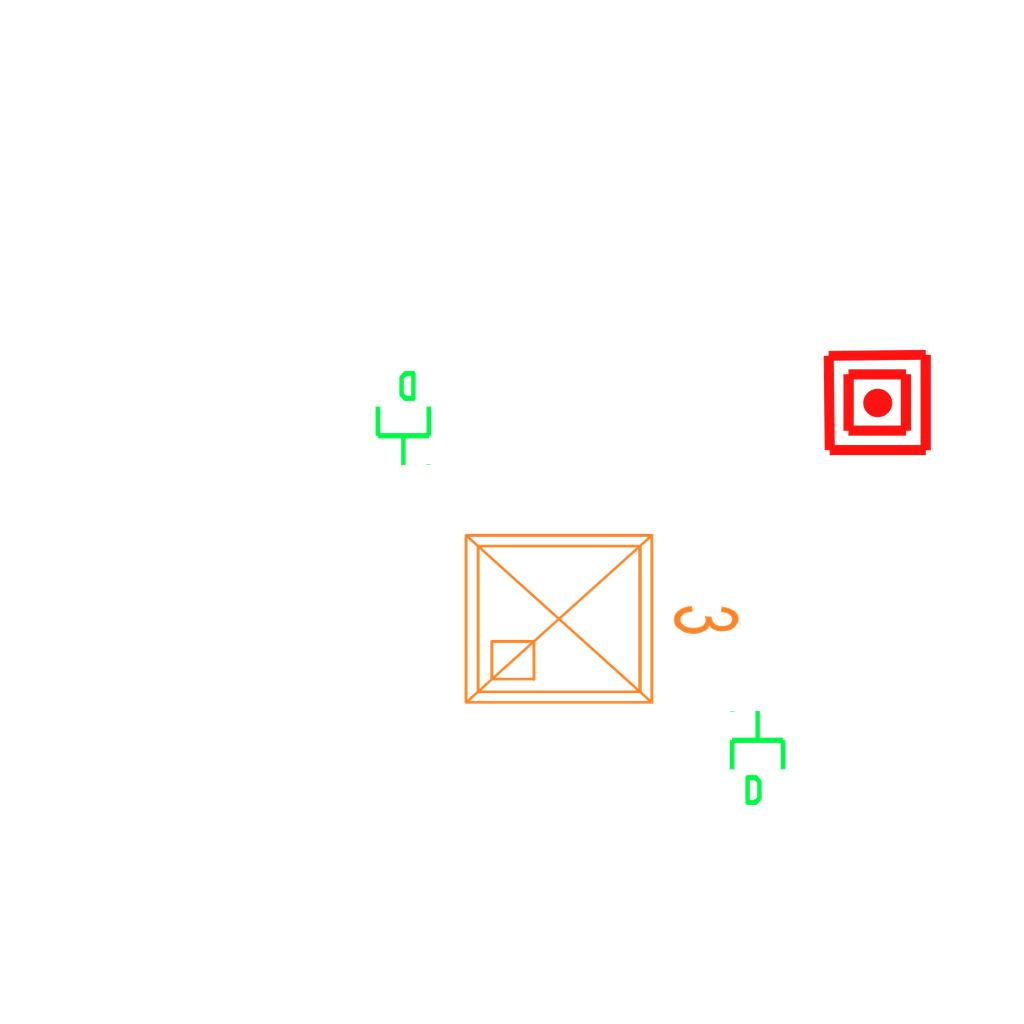Datenanschluss_einfach: (367, 368, 436, 468), (725, 708, 794, 808)
Einbaudownlights_LED_Konferenzraeume: (450, 511, 750, 719)
NAM-Nichtautomatischer_Melder: (821, 346, 934, 459)
